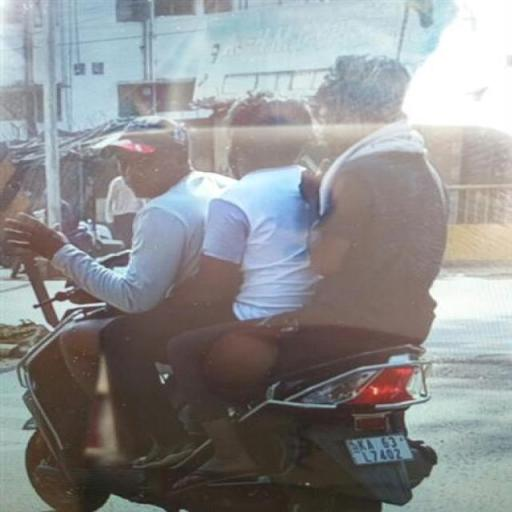tripple riding: (3, 52, 484, 360)
